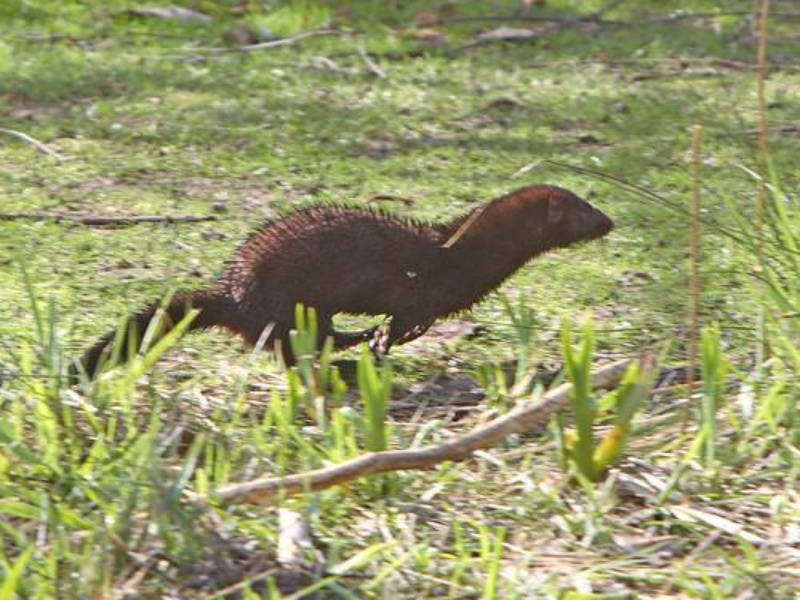minkish: (60, 178, 619, 387)
